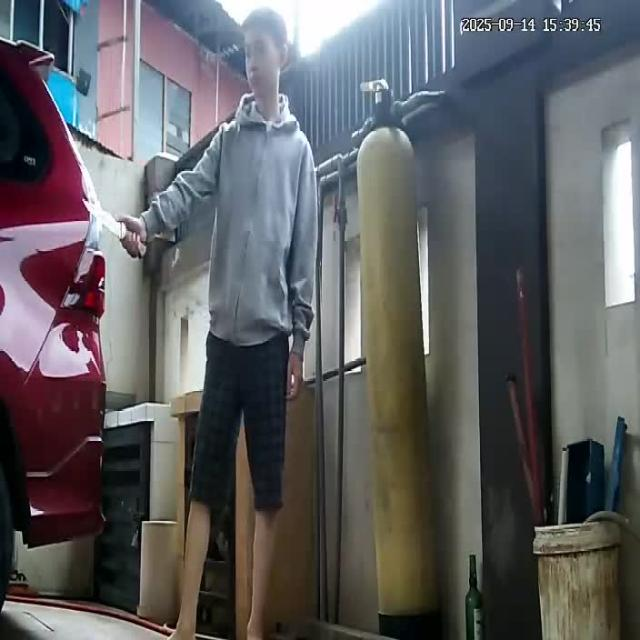senjata_tajam: (80, 196, 126, 242)
